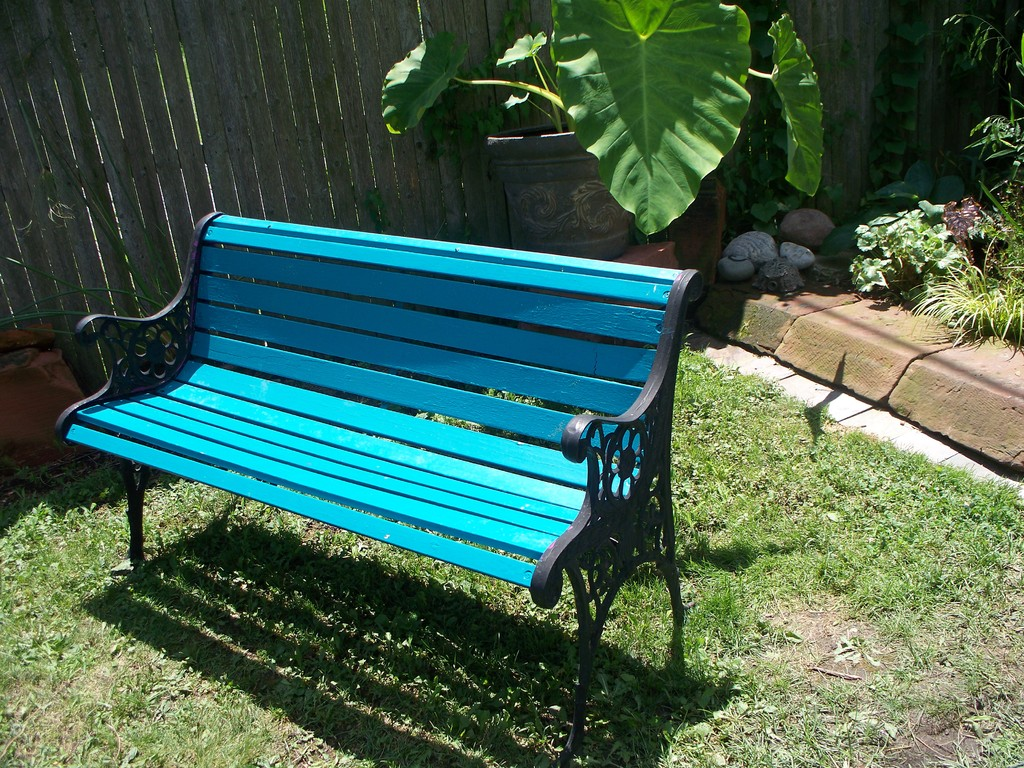person: (373, 1, 802, 345)
